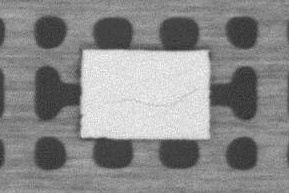DIE_CRACK: (101, 88, 202, 106)
